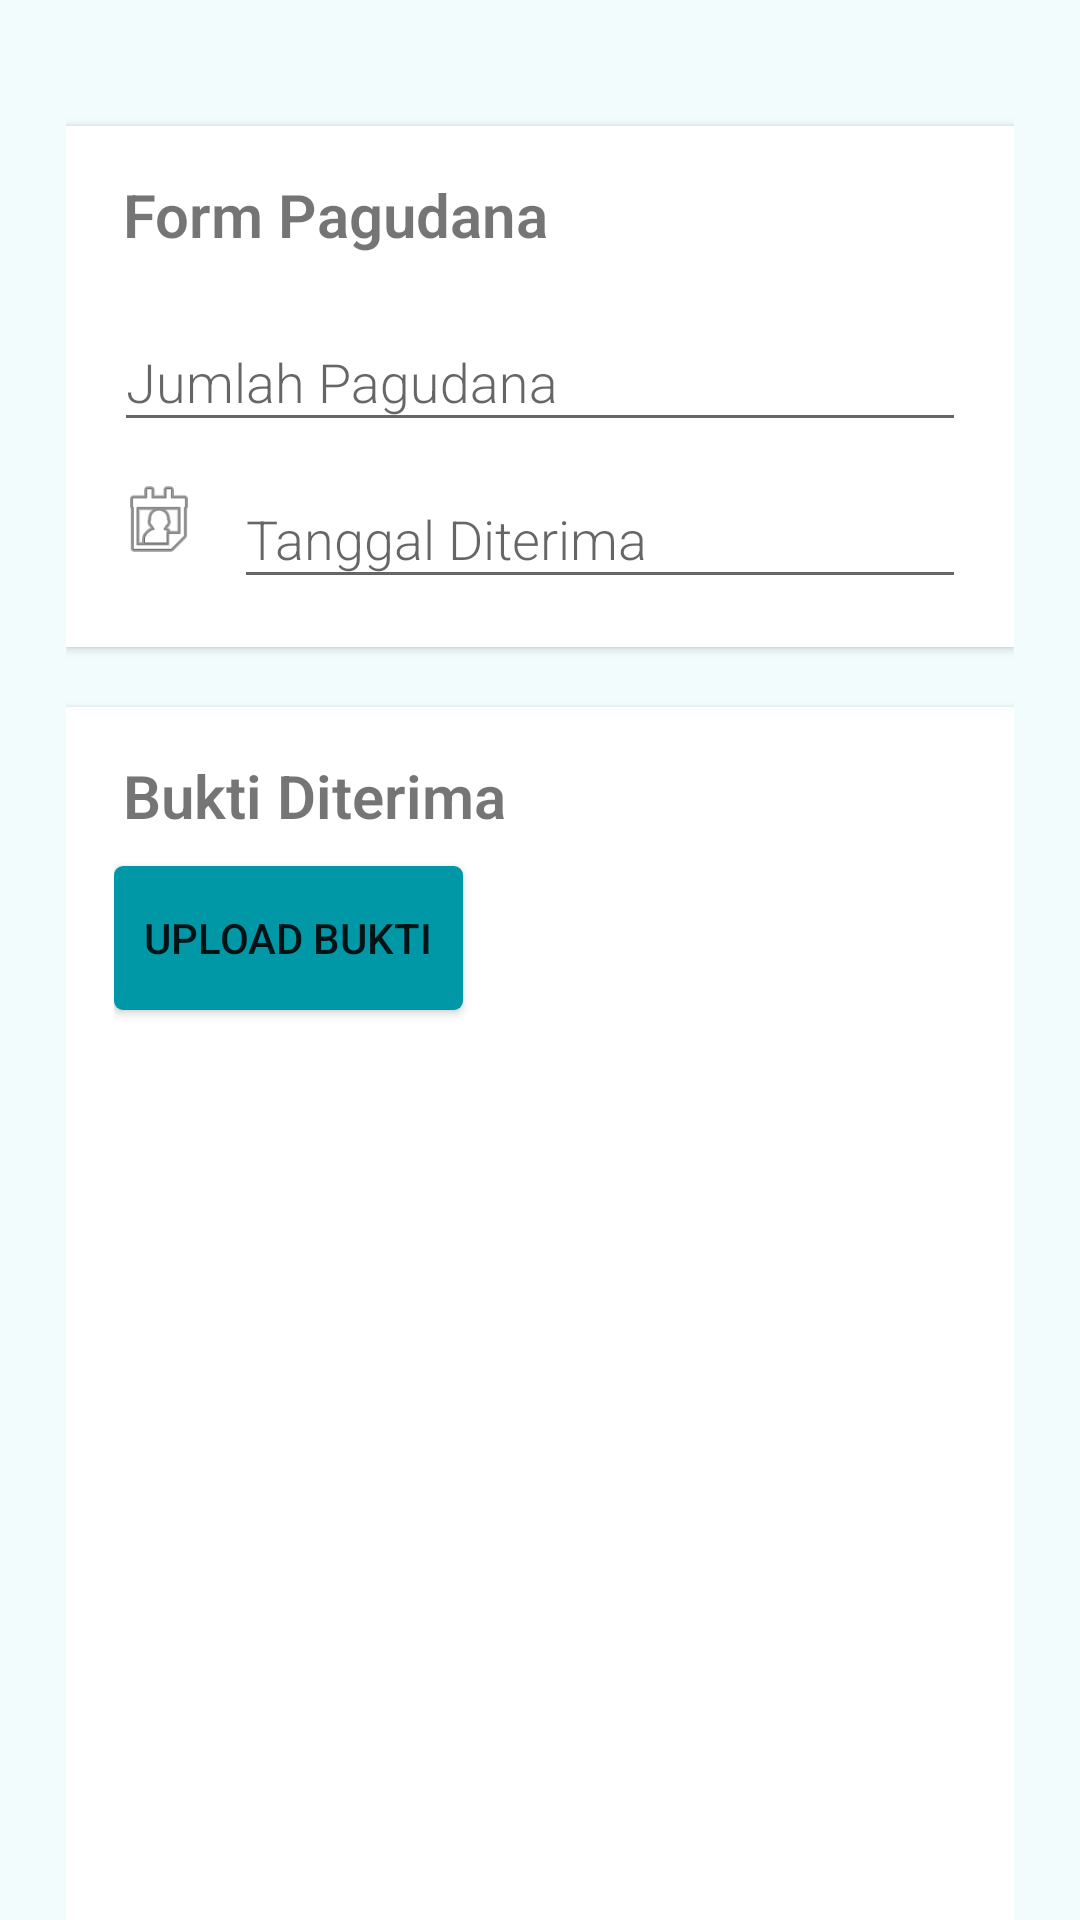

Where icons sit on this 1080w x 1920h app screen, as (x1, y1, x2, y2):
calendar: (130, 486, 188, 552)
